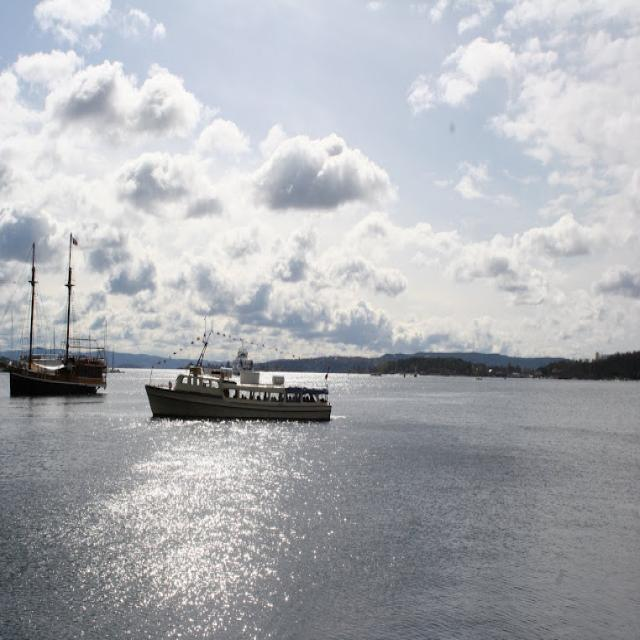fishing boat: (0, 329, 102, 409)
passenger ship: (143, 318, 337, 427)
